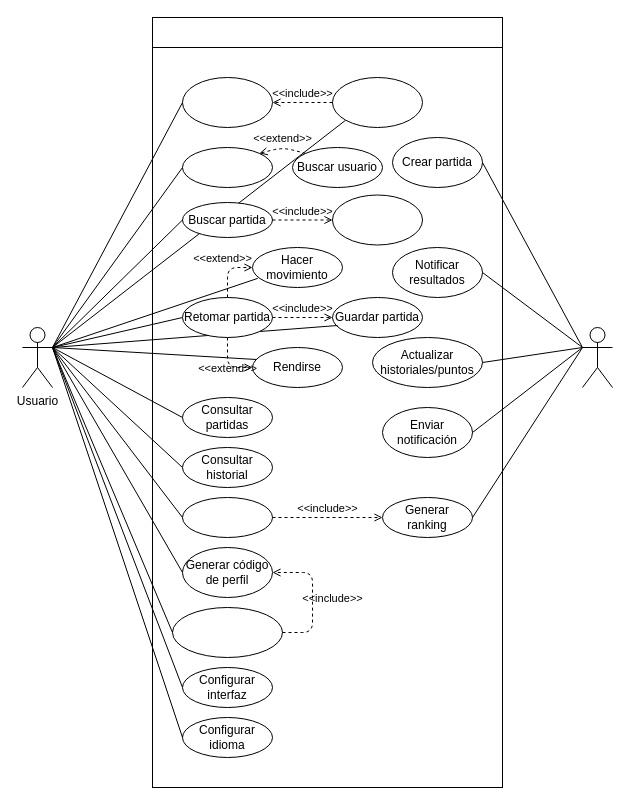
The diagram is 636 pixels wide and 805 high, and some of its shapes have lost their labels. The shapes that lost their labels are listed below. From the top down, each one's centre as x and y in pixels, then its label:
the point at 327,32: Aplicación de batalla naval
the point at 227,102: Registrar usuario
the point at 377,102: Identificar usuario
the point at 227,167: Añadir amigo
the point at 377,219: Seleccionar modo de juego
the point at 597,357: Sistema
the point at 227,517: Consultar ranking
the point at 227,632: Buscar perfil por código
